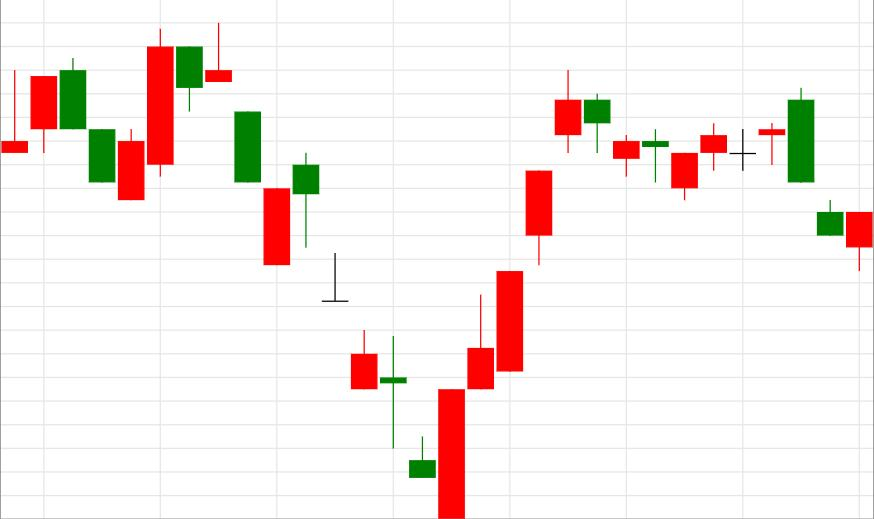three_white_soldiers_rise: (293, 152, 522, 516)
